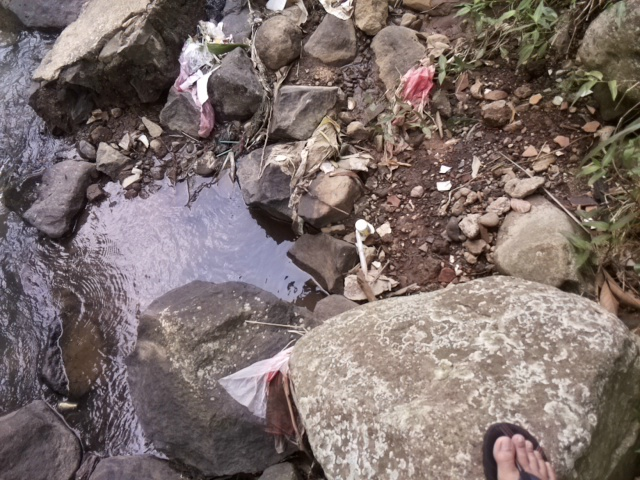Sampah_Plastik: (175, 16, 232, 142), (393, 57, 435, 136)
Sampah_Styrofoam: (215, 347, 309, 442), (349, 215, 377, 237)
